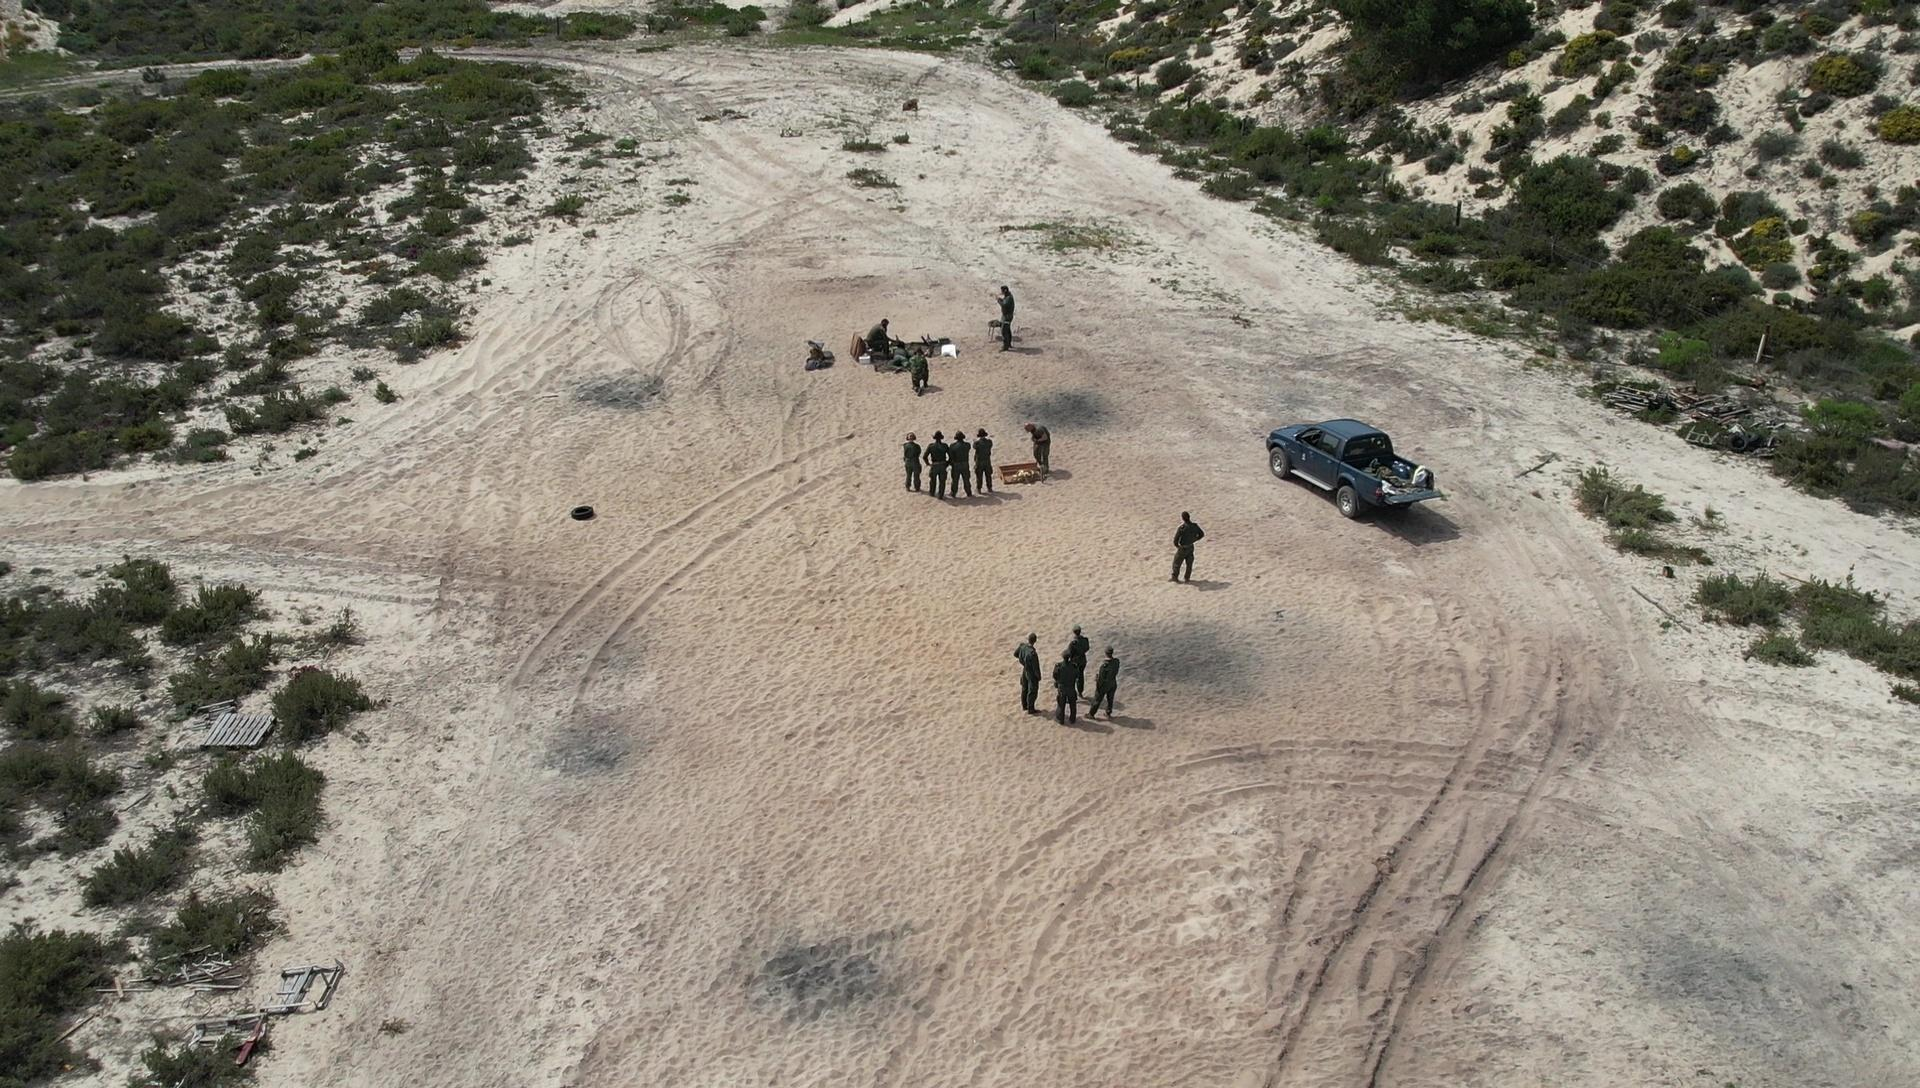Soldier: (1168, 502, 1209, 593), (1011, 628, 1048, 721), (1022, 418, 1064, 489), (1055, 638, 1089, 721), (996, 280, 1023, 359), (1095, 645, 1121, 728), (971, 423, 996, 506), (899, 429, 930, 496), (862, 320, 901, 368), (901, 342, 938, 389), (949, 425, 971, 504), (975, 425, 993, 502), (1068, 626, 1092, 669)
